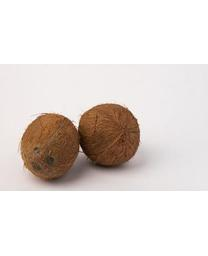coconut: (77, 103, 140, 167), (19, 112, 79, 179)
